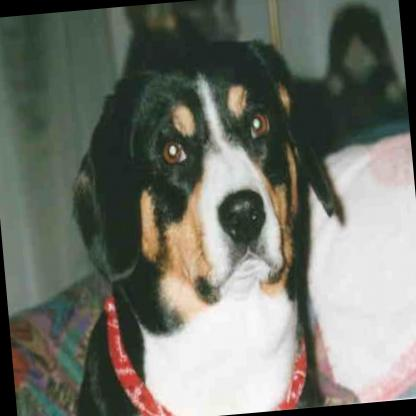EntleBucher: (44, 29, 354, 416)
